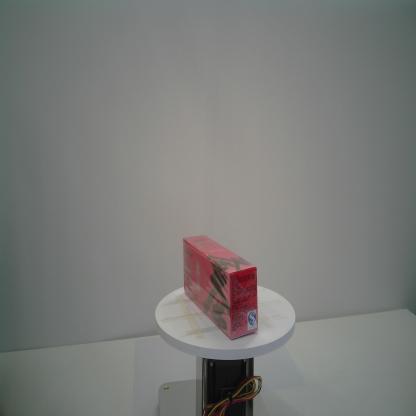Instant Drink: (182, 235, 259, 340)
